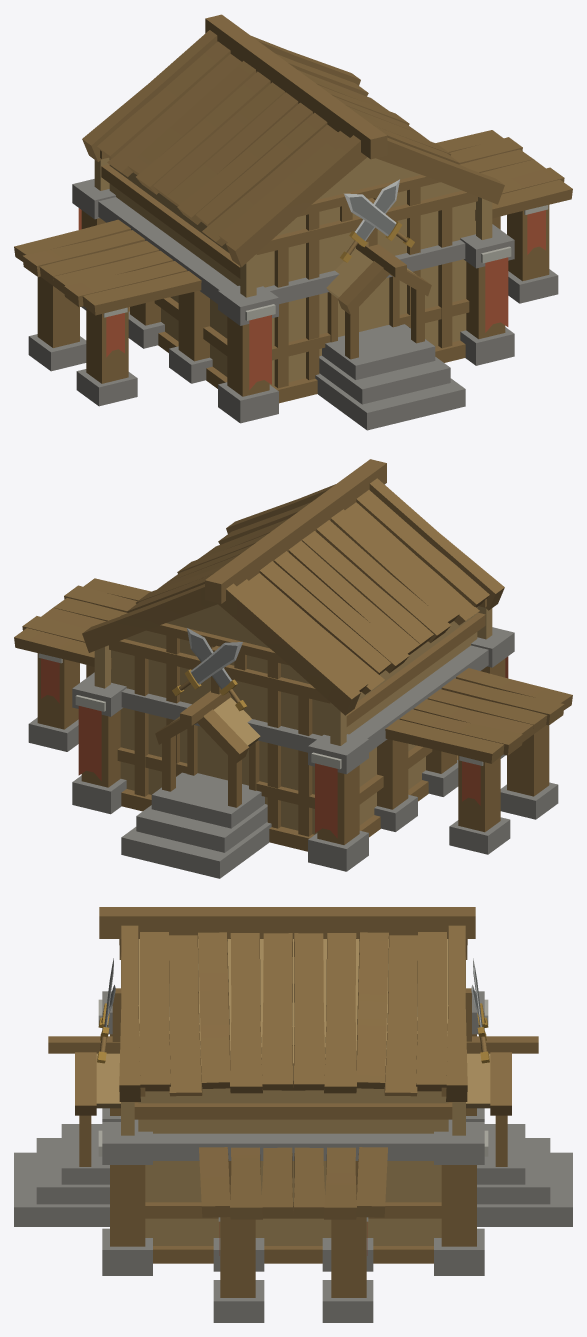
File: Barracks_FirstAge_Level2.glb
3 views of the same model, one above another, from view 1: azimuth 30°, elevation 25°; view 2: azimuth 150°, elevation 25°; view 3: azimuth 270°, elevation 25° (orthographic). The views are drawn at different scales.
Parts seen in each view (by area): view 1: Barracks_FirstAge_Level2; view 2: Barracks_FirstAge_Level2; view 3: Barracks_FirstAge_Level2.
Boxes of the visible parts, left/top/right/bottom form: Barracks_FirstAge_Level2: left=14, top=14, right=572, bottom=430; Barracks_FirstAge_Level2: left=14, top=459, right=572, bottom=878; Barracks_FirstAge_Level2: left=14, top=907, right=572, bottom=1322.
Bounding box in the file's own units: 1.79 × 0.8923 × 1.57.
Materials: 1 (1 with a texture image).
